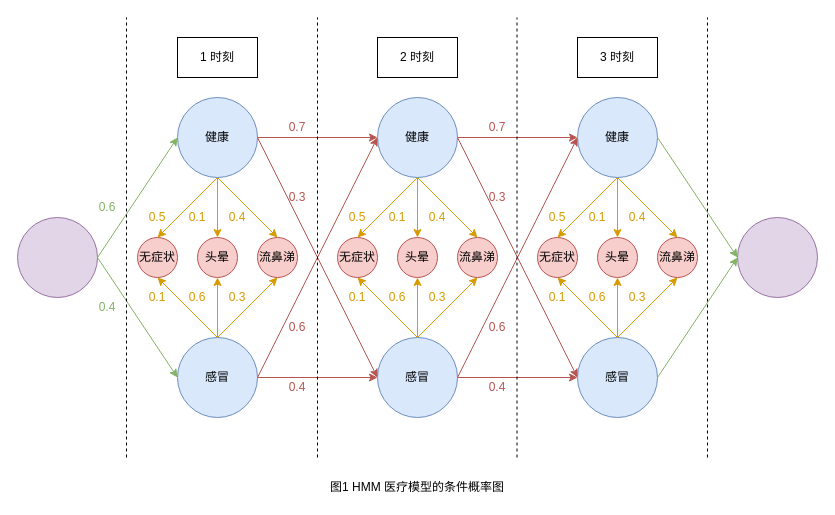
Some shapes in this 835 by 515 pixel diagram are drawn without their labels. Here are the shapes that lost their labels. From the top down, the centre of each, then its label:
the point at 57,257: 特殊结点: 起始
the point at 777,257: 特殊结点: 结束
